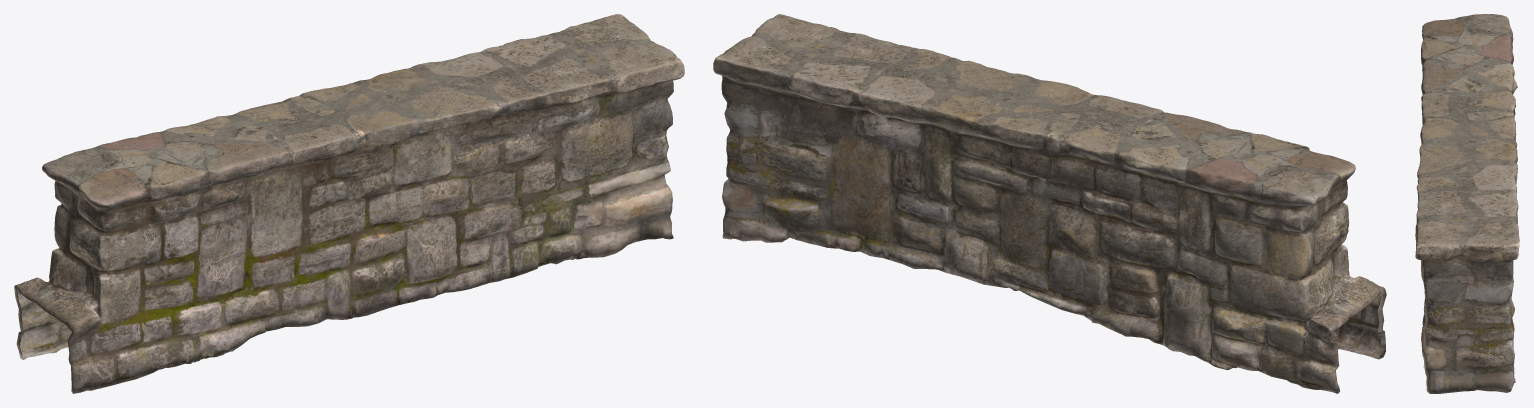
Rendered from castle_wall_sbxuw_high.glb.
3 renders of one model, left to right at view 1: azimuth 30°, elevation 25°; view 2: azimuth 150°, elevation 25°; view 3: azimuth 270°, elevation 25°, orthographic. The views are drawn at different scales.
Parts seen in each view (by area): view 1: sbxuw_LOD0_TIER1_000_MatID_1_0; view 2: sbxuw_LOD0_TIER1_000_MatID_1_0; view 3: sbxuw_LOD0_TIER1_000_MatID_1_0.
Boxes of the visible parts, x1,y1,x2,y2 form: sbxuw_LOD0_TIER1_000_MatID_1_0: [14, 14, 684, 393]; sbxuw_LOD0_TIER1_000_MatID_1_0: [713, 14, 1386, 393]; sbxuw_LOD0_TIER1_000_MatID_1_0: [1415, 14, 1519, 393].
Bounding box in the file's own units: 2.3 × 0.6983 × 0.4186.
1 material, 1 textured.
